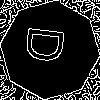D: (25, 25, 74, 66)
